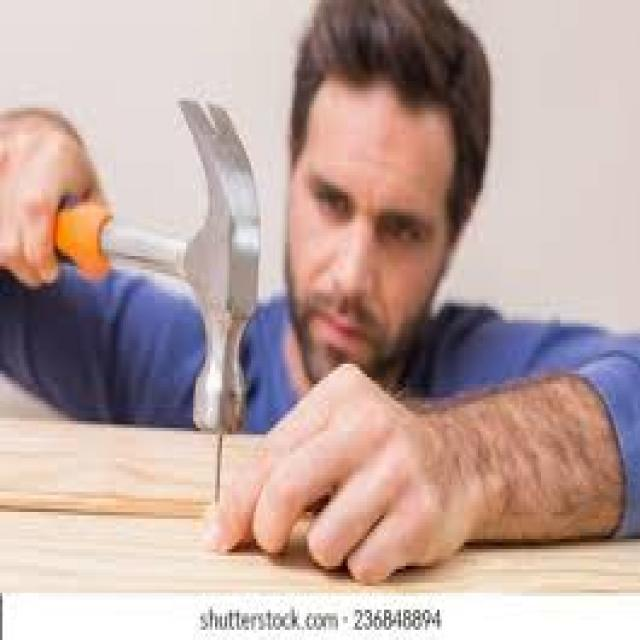hammer: (17, 86, 268, 443)
